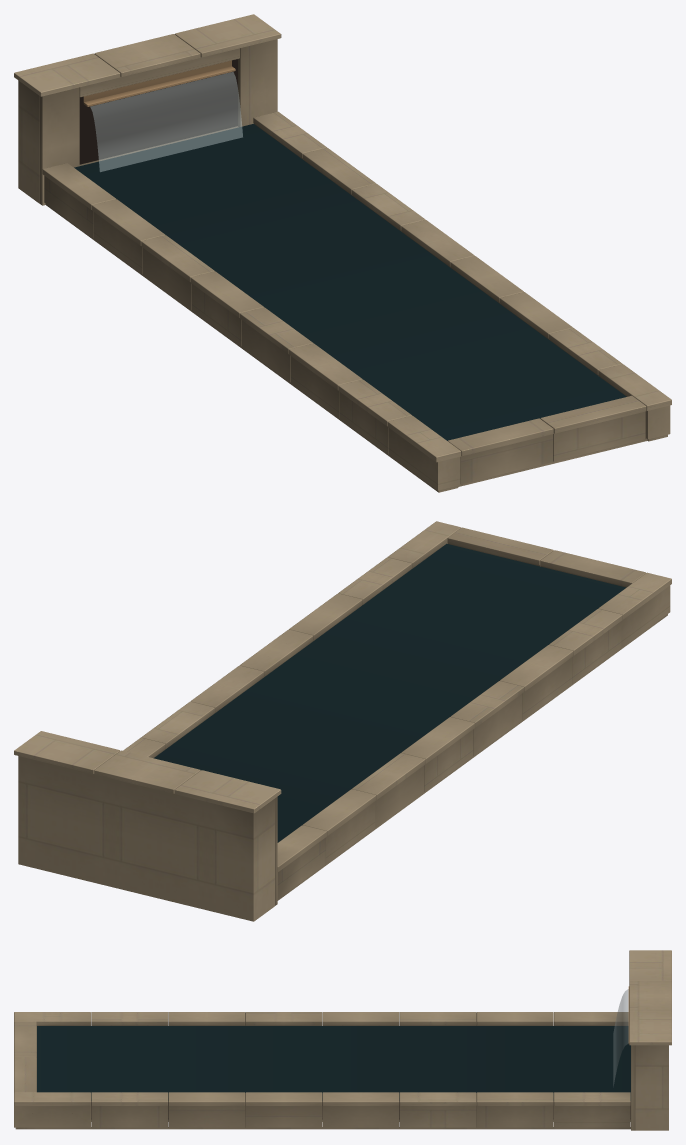
File: courtyard_pool.gltf
3 renders of one model, top to bottom at view 1: azimuth 30°, elevation 25°; view 2: azimuth 150°, elevation 25°; view 3: azimuth 270°, elevation 25°, orthographic. The views are drawn at different scales.
Parts seen in each view (by area): view 1: CourtyardPool_Water, CourtyardPool_Sheet, CourtyardPool_Niche, CourtyardPool_HeadJamb_W, CourtyardPool_HeadJamb_E, CourtyardPool_Clad_S1, CourtyardPool_Clad_S0, CourtyardPool_HeadCap0, CourtyardPool_HeadCap2, CourtyardPool_HeadCap1, CourtyardPool_HeadWall, CourtyardPool_Clad_W0 (+30 smaller); view 2: CourtyardPool_Water, CourtyardPool_HeadWall, CourtyardPool_HeadCap0, CourtyardPool_HeadCap1, CourtyardPool_HeadCap2, CourtyardPool_Coping_S1, CourtyardPool_Coping_S0, CourtyardPool_Coping_W1, CourtyardPool_Coping_E2, CourtyardPool_Coping_E3, CourtyardPool_Coping_E4, CourtyardPool_Coping_W0 (+18 smaller); view 3: CourtyardPool_Water, CourtyardPool_HeadWall, CourtyardPool_Plinth_E, CourtyardPool_Clad_E2, CourtyardPool_Clad_E3, CourtyardPool_Clad_E4, CourtyardPool_Clad_E5, CourtyardPool_Clad_E6, CourtyardPool_Clad_E0, CourtyardPool_Clad_E1, CourtyardPool_Clad_E7, CourtyardPool_HeadCap2 (+22 smaller).
Boxes of the visible parts, <box> form: CourtyardPool_Water: <box>74,123,626,440</box>; CourtyardPool_Sheet: <box>90,72,242,171</box>; CourtyardPool_Niche: <box>79,59,237,164</box>; CourtyardPool_HeadJamb_W: <box>39,87,79,205</box>; CourtyardPool_HeadJamb_E: <box>238,39,277,126</box>; CourtyardPool_Clad_S1: <box>553,411,645,461</box>; CourtyardPool_Clad_S0: <box>460,434,552,484</box>; CourtyardPool_HeadCap0: <box>14,53,120,96</box>; CourtyardPool_HeadCap2: <box>174,14,281,57</box>; CourtyardPool_HeadCap1: <box>94,34,200,76</box>; CourtyardPool_HeadWall: <box>18,80,39,203</box>; CourtyardPool_Clad_W0: <box>389,428,460,490</box>; CourtyardPool_Water: <box>154,544,625,842</box>; CourtyardPool_HeadWall: <box>18,756,274,921</box>; CourtyardPool_HeadCap0: <box>174,770,281,813</box>; CourtyardPool_HeadCap1: <box>94,750,200,793</box>; CourtyardPool_HeadCap2: <box>14,731,120,773</box>; CourtyardPool_Coping_S1: <box>447,527,553,565</box>; CourtyardPool_Coping_S0: <box>540,550,645,586</box>; CourtyardPool_Coping_W1: <box>549,609,622,655</box>; CourtyardPool_Coping_E2: <box>289,593,362,640</box>; CourtyardPool_Coping_E3: <box>240,629,313,676</box>; CourtyardPool_Coping_E4: <box>190,665,264,712</box>; CourtyardPool_Coping_W0: <box>598,572,671,619</box>; CourtyardPool_Water: <box>37,1026,630,1100</box>; CourtyardPool_HeadWall: <box>635,1045,668,1130</box>; CourtyardPool_Plinth_E: <box>15,1120,630,1129</box>; CourtyardPool_Clad_E2: <box>168,1106,245,1127</box>; CourtyardPool_Clad_E3: <box>245,1106,322,1127</box>; CourtyardPool_Clad_E4: <box>322,1106,399,1127</box>; CourtyardPool_Clad_E5: <box>399,1106,476,1127</box>; CourtyardPool_Clad_E6: <box>476,1106,553,1127</box>; CourtyardPool_Clad_E0: <box>14,1106,90,1127</box>; CourtyardPool_Clad_E1: <box>91,1106,167,1127</box>; CourtyardPool_Clad_E7: <box>554,1106,630,1127</box>; CourtyardPool_HeadCap2: <box>629,1011,671,1045</box>.
Size of the model in its own units: 2.86 by 1.3 by 8.64.
5 materials, 1 textured.
